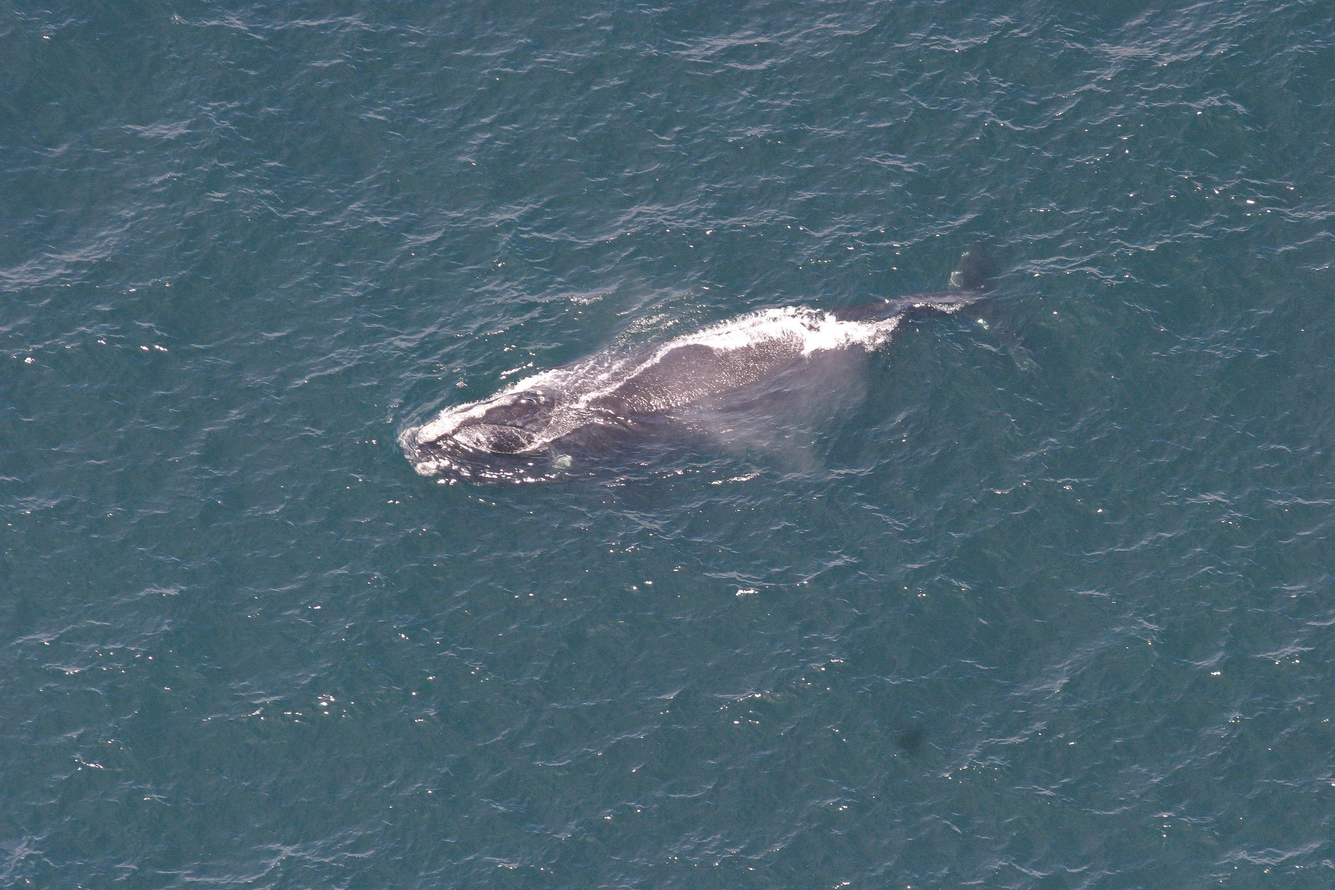whale: (391, 213, 1072, 496)
